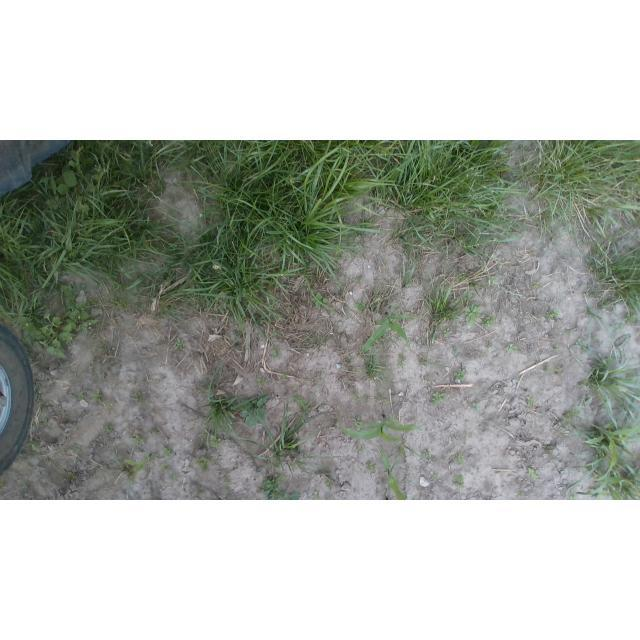Maize: (359, 306, 430, 355), (336, 412, 428, 442), (378, 445, 410, 500)
Weeds: (189, 361, 282, 486), (579, 336, 640, 501), (1, 284, 114, 360), (246, 394, 331, 473), (577, 231, 640, 327), (169, 333, 346, 361), (343, 335, 393, 382), (103, 453, 159, 484), (259, 472, 305, 501), (388, 441, 425, 470), (556, 400, 584, 437), (545, 444, 562, 474), (193, 452, 213, 476), (353, 391, 391, 403), (308, 290, 329, 311), (157, 440, 176, 461), (522, 463, 542, 482), (544, 306, 561, 327), (130, 389, 148, 407), (218, 476, 234, 496), (450, 364, 466, 384), (89, 389, 108, 405), (24, 438, 45, 452), (416, 354, 437, 367), (311, 490, 337, 500), (525, 395, 540, 411), (101, 422, 115, 439), (130, 434, 147, 448), (420, 448, 435, 462), (429, 393, 447, 404), (68, 443, 86, 454), (505, 342, 519, 356), (363, 457, 377, 471), (454, 451, 467, 465), (454, 474, 466, 489), (352, 416, 364, 431), (352, 300, 366, 312), (451, 344, 461, 360), (482, 342, 494, 355), (75, 389, 85, 404), (146, 427, 162, 436), (324, 478, 336, 489), (169, 473, 180, 484), (469, 403, 481, 413), (397, 356, 406, 369), (530, 278, 538, 292), (428, 474, 440, 483), (555, 366, 564, 378), (552, 346, 562, 356), (541, 363, 551, 373), (421, 372, 432, 381), (161, 463, 170, 473), (65, 471, 75, 480), (565, 328, 574, 336), (517, 492, 525, 499)
